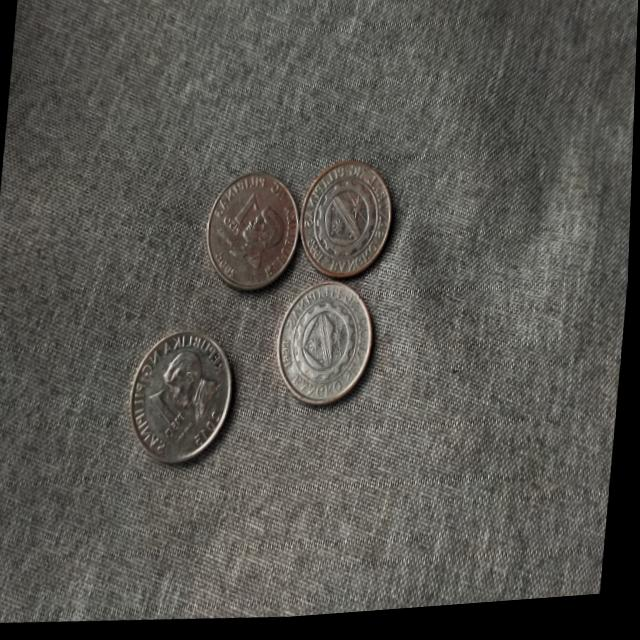1_Old_Back: (309, 178, 384, 272), (289, 302, 364, 395)
